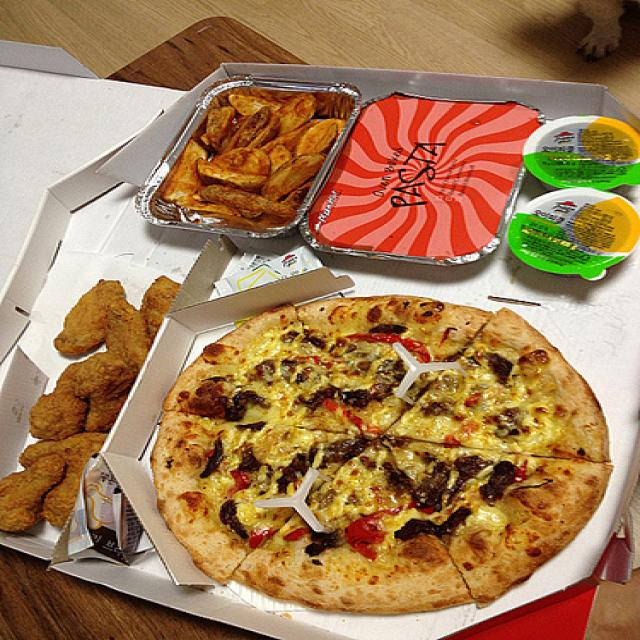Wet Waste: (134, 290, 628, 625)
